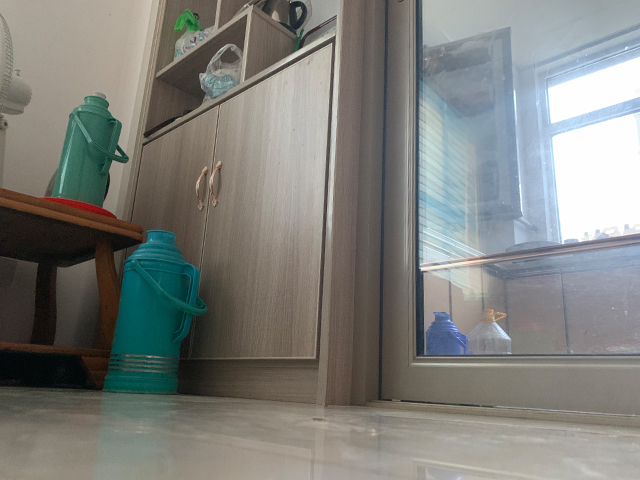cabinet: (114, 35, 366, 406)
table: (1, 187, 147, 391)
